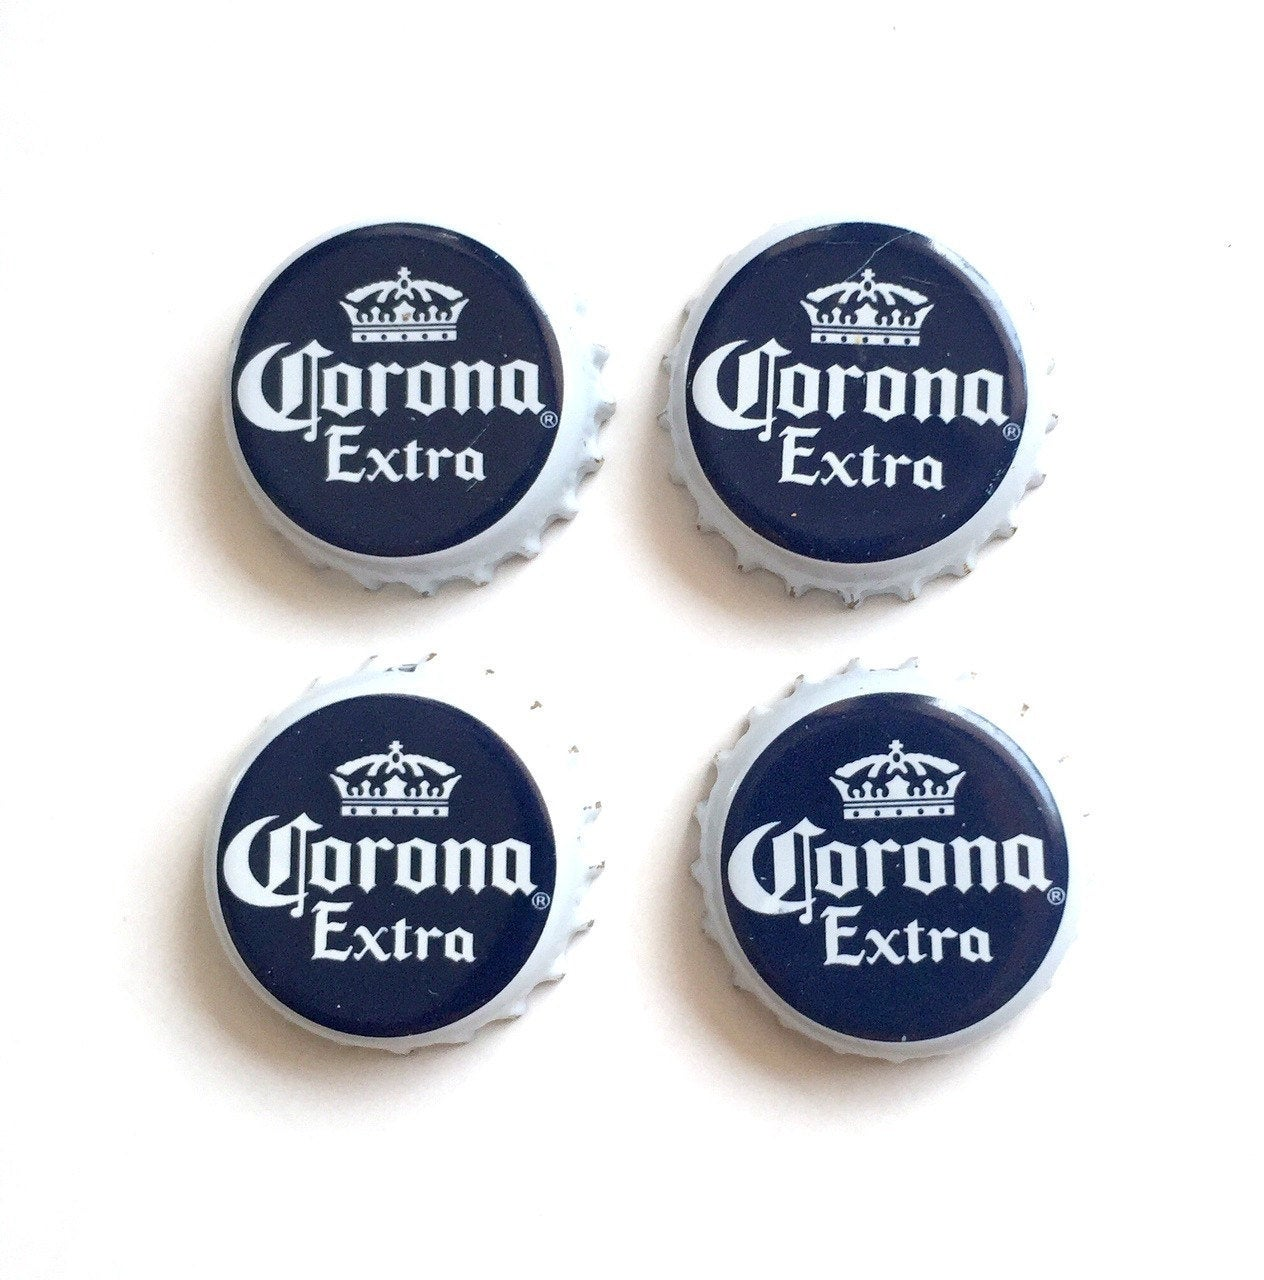corona: (194, 648, 613, 1067), (685, 652, 1092, 1075), (651, 214, 1066, 617), (208, 215, 631, 606)
